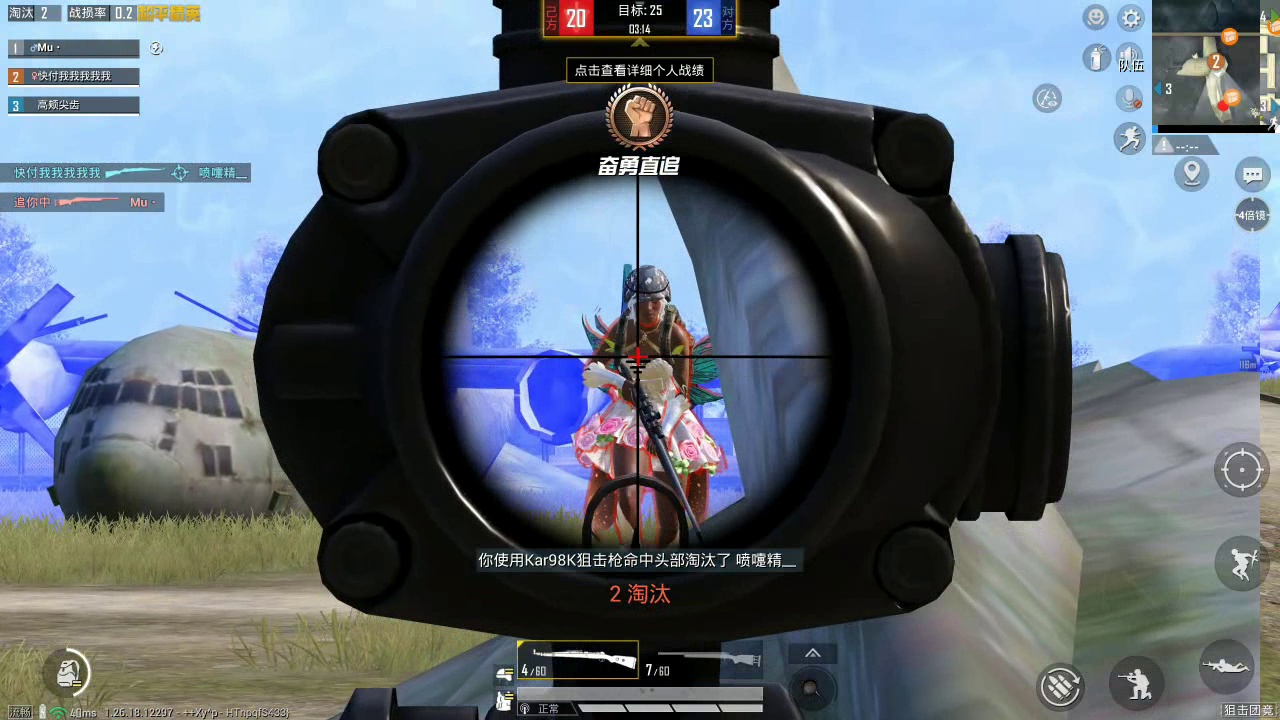enemy: (585, 263, 700, 549)
